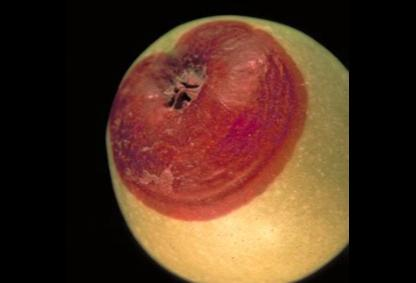defect: (106, 20, 312, 221)
